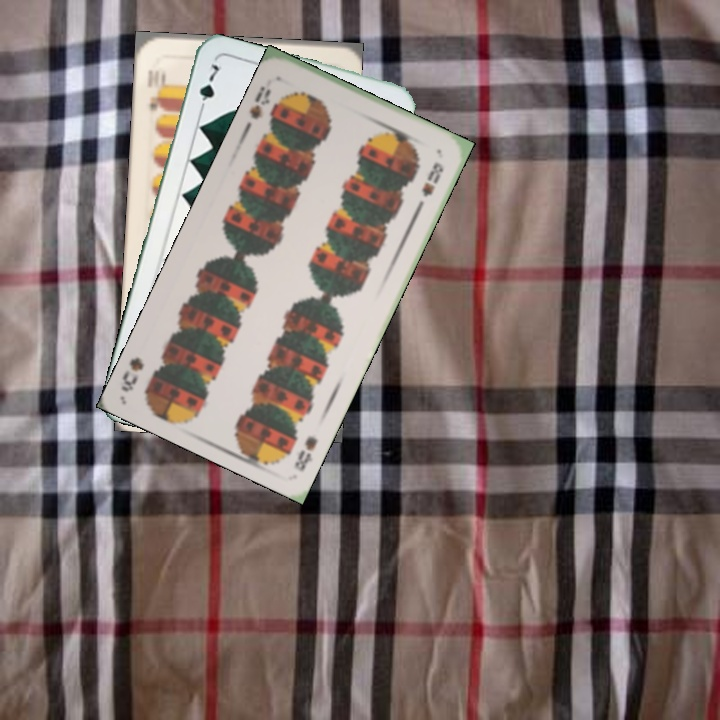E10: (143, 65, 166, 114)
G7: (194, 59, 223, 117)
S8: (290, 431, 320, 474), (245, 82, 274, 122)
